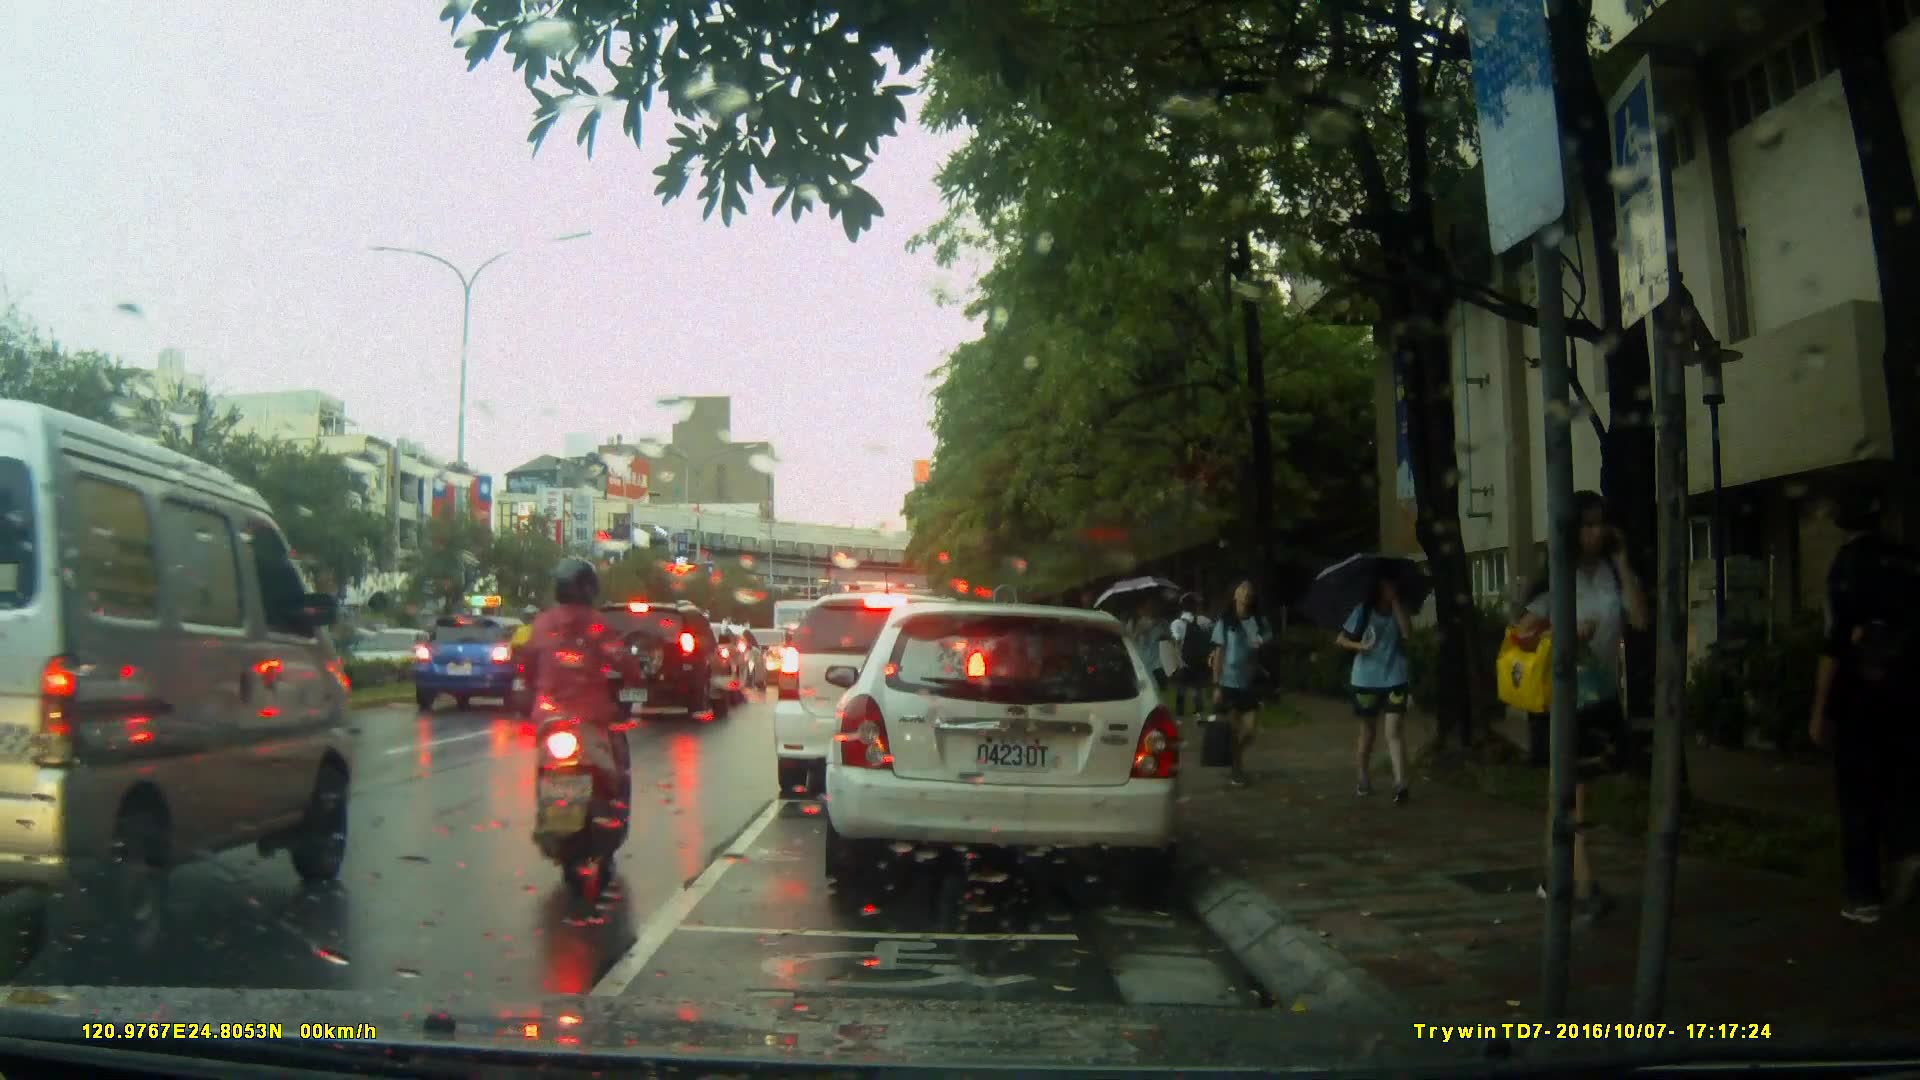pedestrian: (1531, 479, 1658, 915), (1815, 485, 1897, 925), (1331, 552, 1418, 807), (1182, 562, 1266, 774)
rider: (500, 548, 627, 892), (512, 605, 560, 707)
vehicle: (1, 401, 360, 964), (815, 593, 1204, 909), (771, 590, 994, 802), (572, 601, 736, 725), (413, 616, 558, 711)
